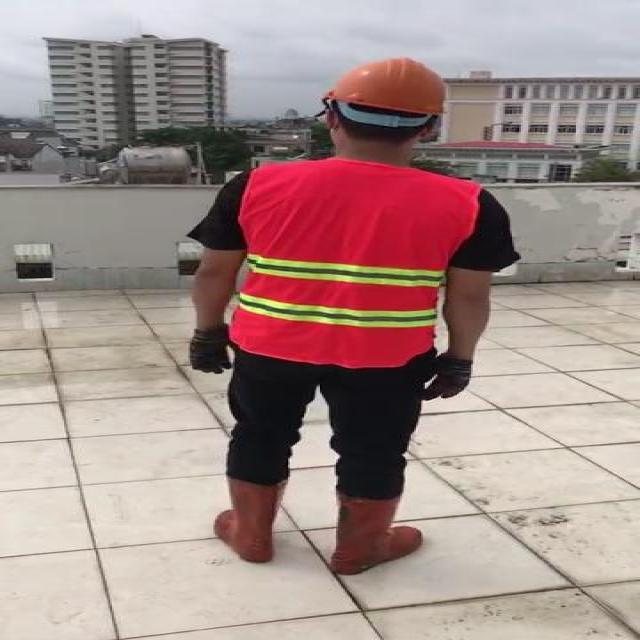boots: (331, 492, 423, 574), (217, 477, 283, 560)
hand_glove: (188, 327, 238, 374), (423, 355, 466, 406)
head_helmet: (322, 54, 452, 122)
person: (175, 52, 524, 578)
vest: (237, 160, 471, 364)
